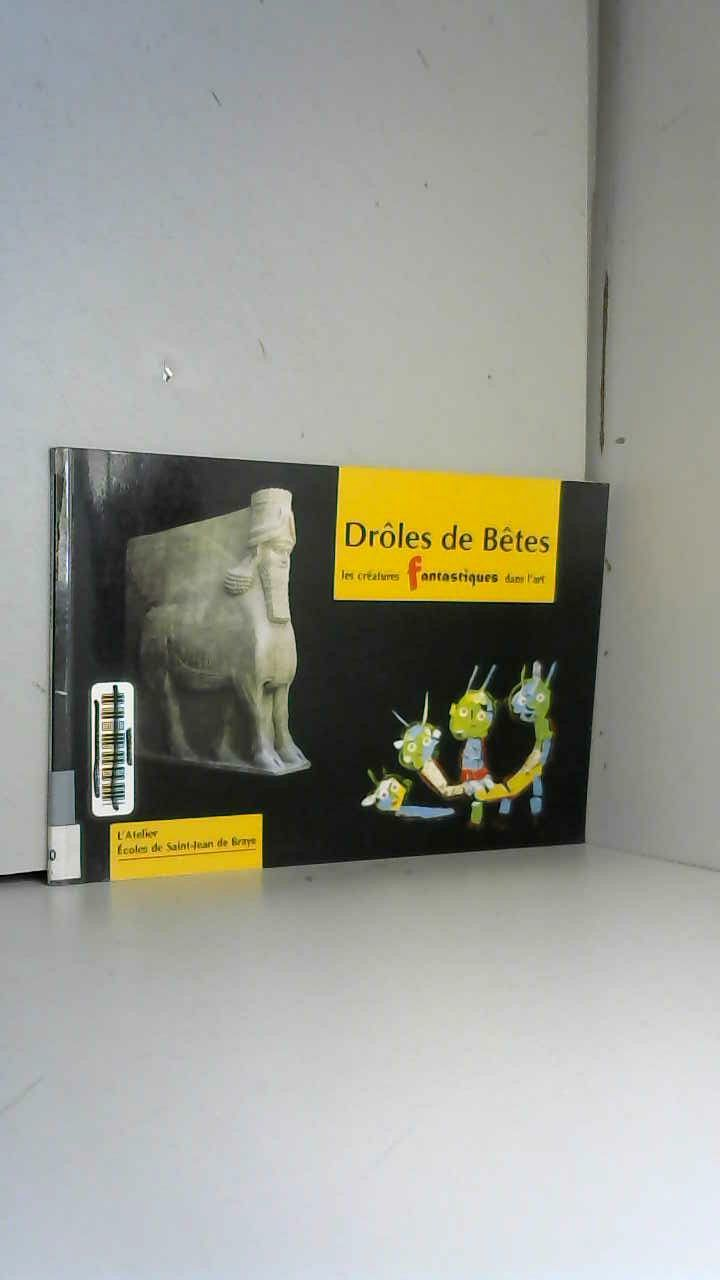book: (27, 408, 630, 915)
